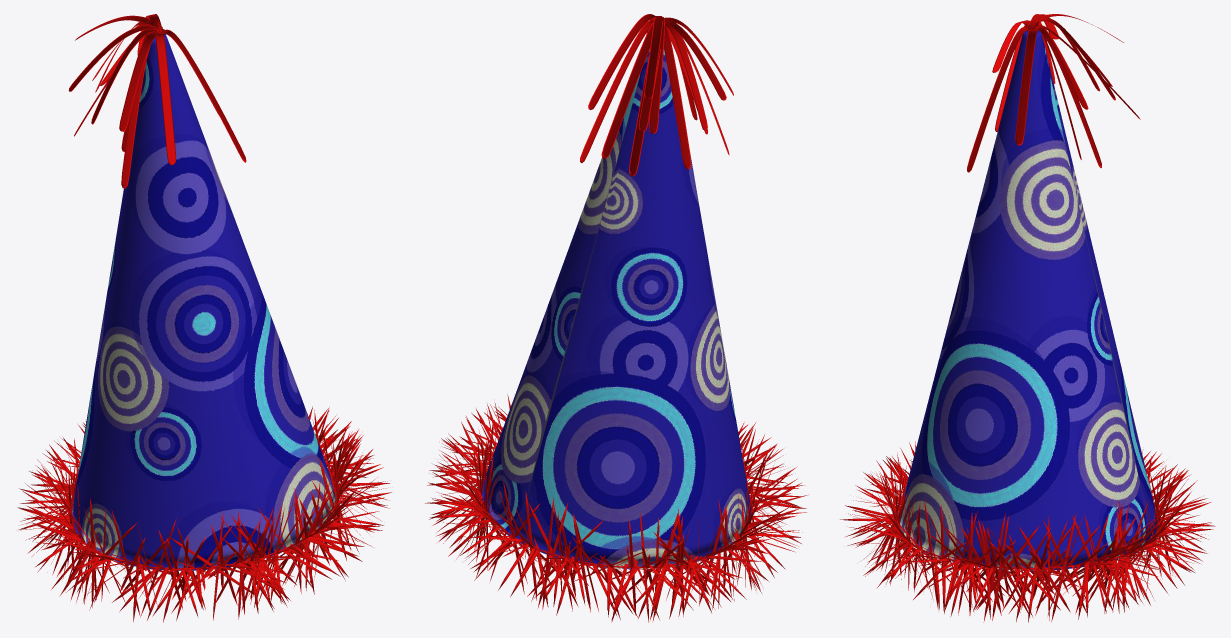
Rendered from party.glb.
3 renders of one model, left to right at view 1: azimuth 30°, elevation 25°; view 2: azimuth 150°, elevation 25°; view 3: azimuth 270°, elevation 25°, orthographic. The views are drawn at different scales.
Visible parts, largest first — view 1: 12179_Hat_v1_l2; view 2: 12179_Hat_v1_l2; view 3: 12179_Hat_v1_l2.
Boxes of the visible parts, left/top/right/bottom form: 12179_Hat_v1_l2: left=17, top=14, right=391, bottom=622; 12179_Hat_v1_l2: left=425, top=14, right=807, bottom=622; 12179_Hat_v1_l2: left=840, top=14, right=1215, bottom=622.
Size of the model in its own units: 5.32 by 8.68 by 5.4.
2 materials, 1 textured.
